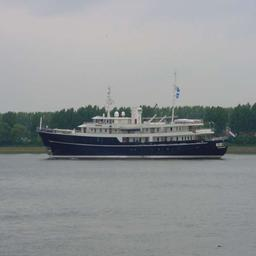Ship: (35, 91, 237, 160)
